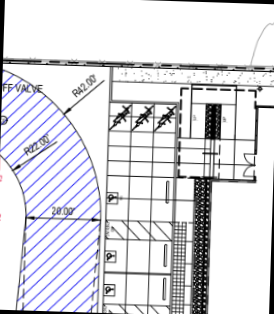double door: (241, 150, 259, 177)
